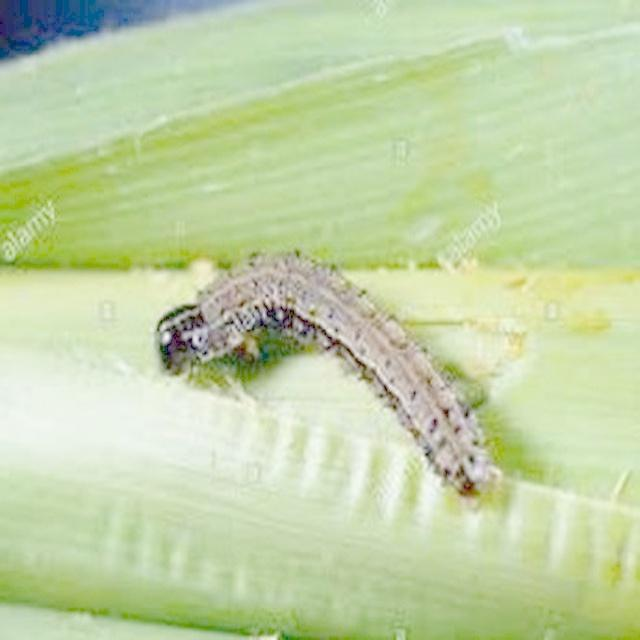Plaga: (153, 245, 503, 514)
